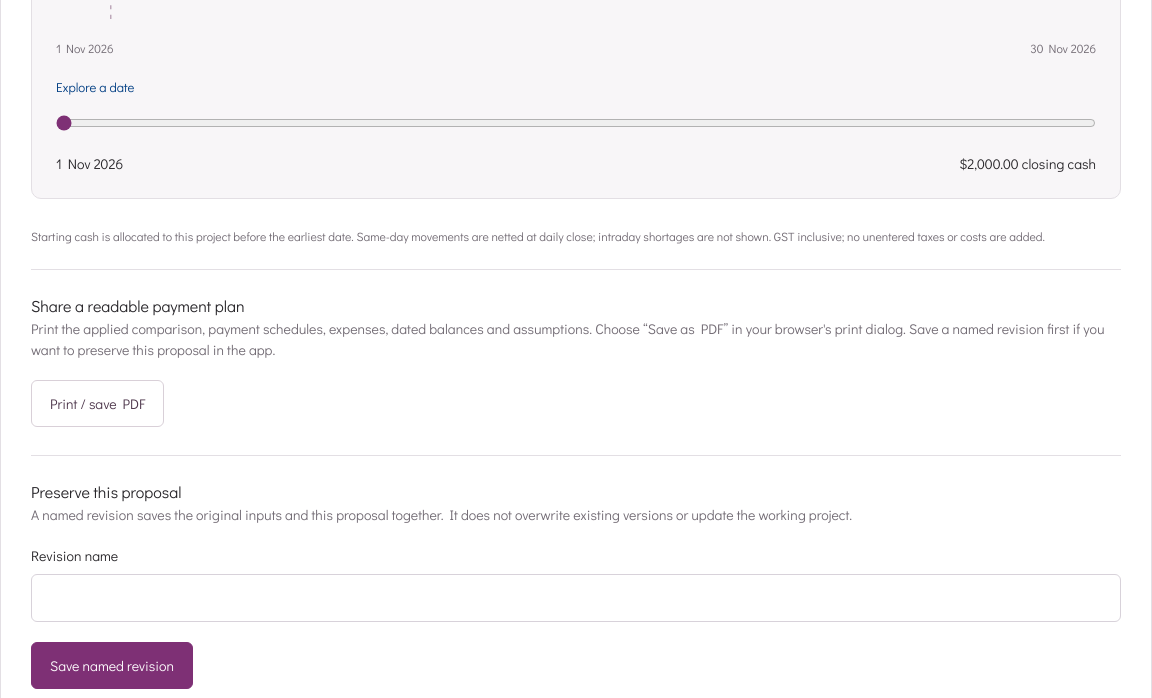
Test: preserves failed-save inputs, retries, and selects the newly saved immutable revision
The image size is (1152, 698).
(page scrolled)
Type "Original terms" into the field labelled "Revision name" at [576, 598], box [31, 574, 1121, 622]
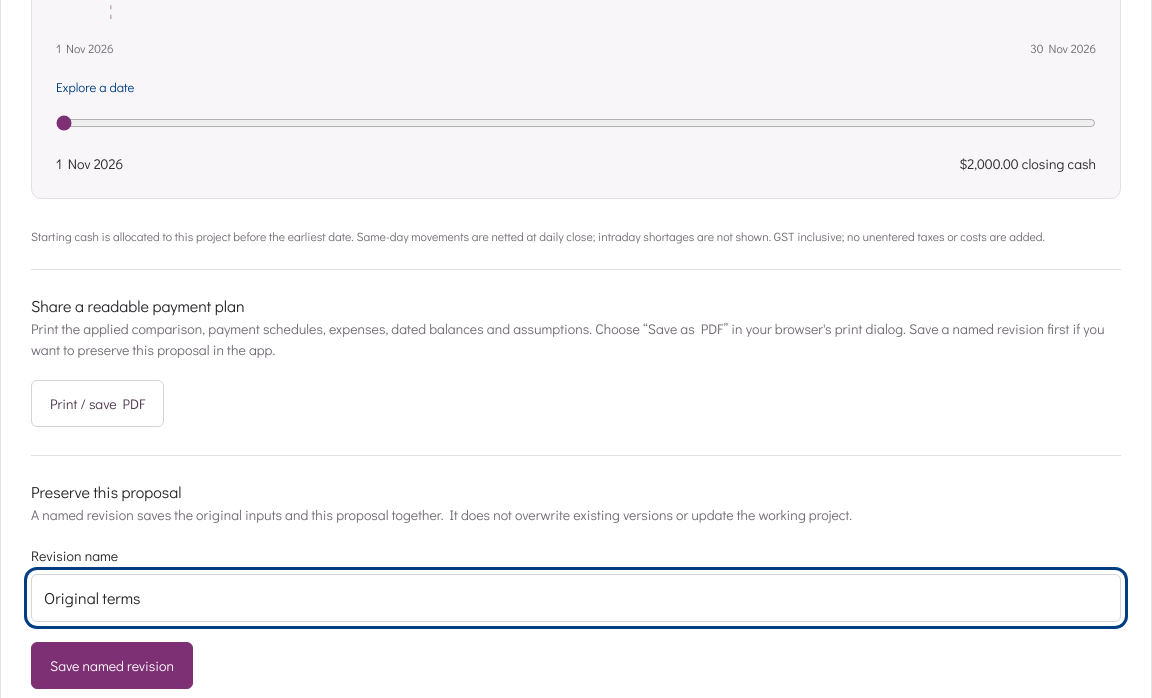
Click the button "Save named revision" at [112, 665], box [31, 642, 193, 689]
(page scrolled)
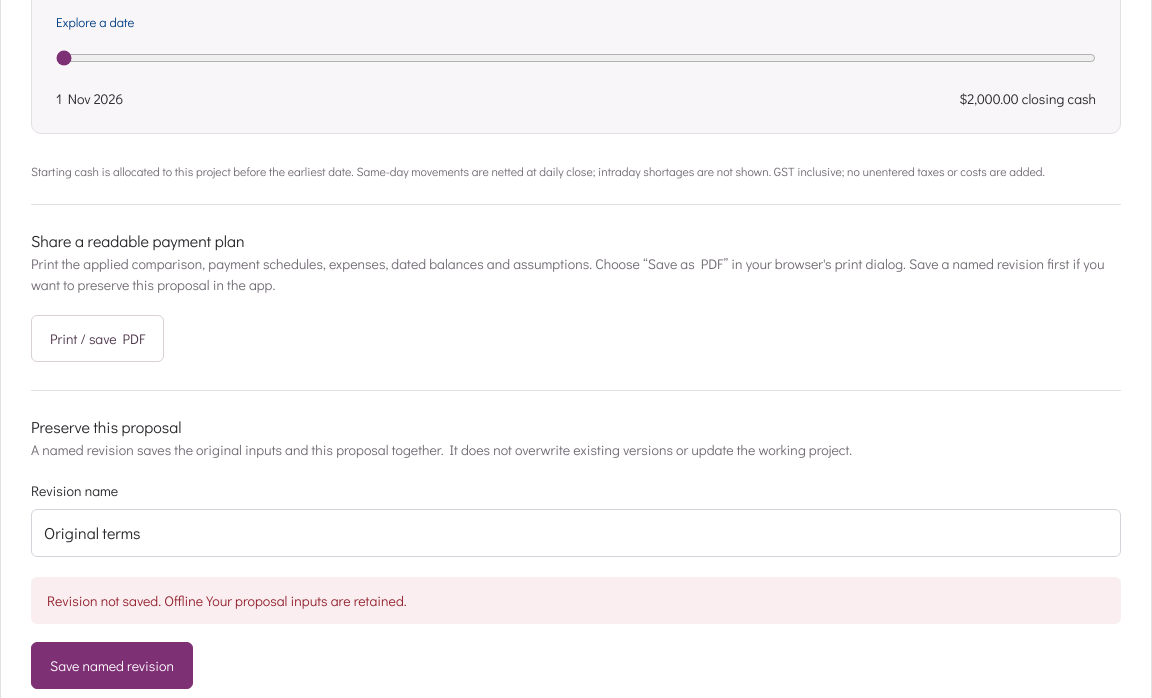
Now the message shows "Revision not saved. Offline", box [47, 591, 407, 610]
Click the button "Save named revision" at [112, 665], box [31, 642, 193, 689]
(page scrolled)
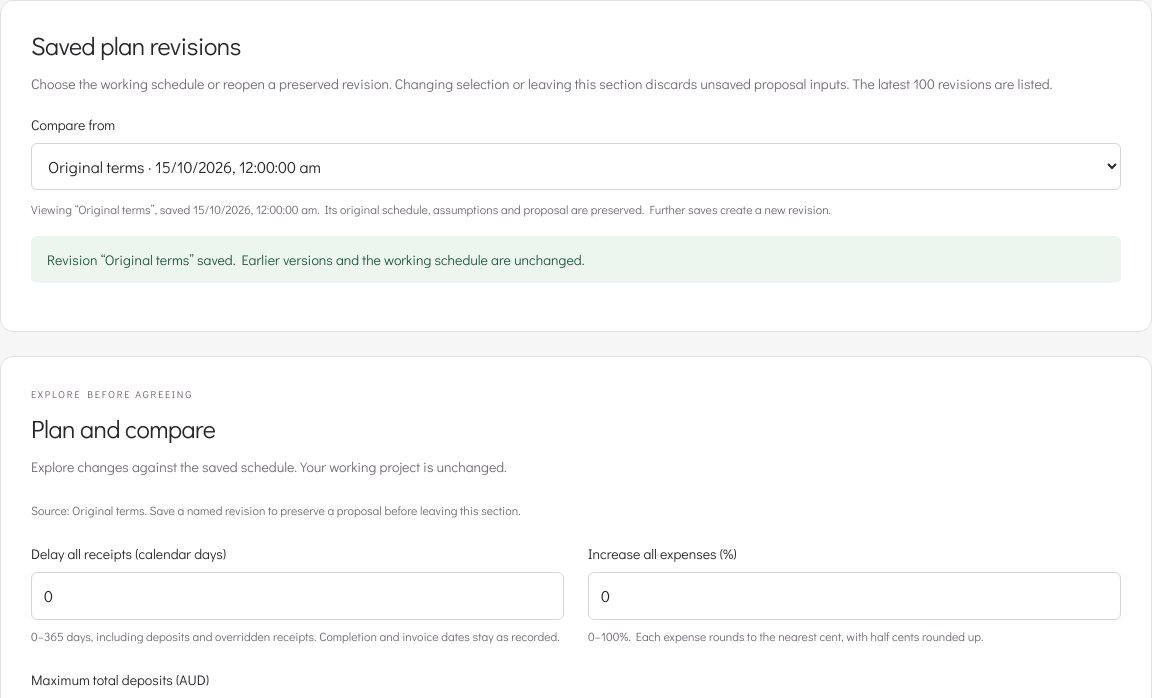
Now the text "Revision “Original terms” saved" is shown, box [47, 250, 584, 269]
Now the dropdown labelled "Compare from" shows "Original terms · 15/10/2026, 12:00:00 am", box [31, 143, 1121, 190]
